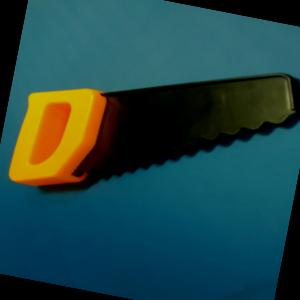serrote: (4, 23, 300, 234), (4, 23, 300, 233)
